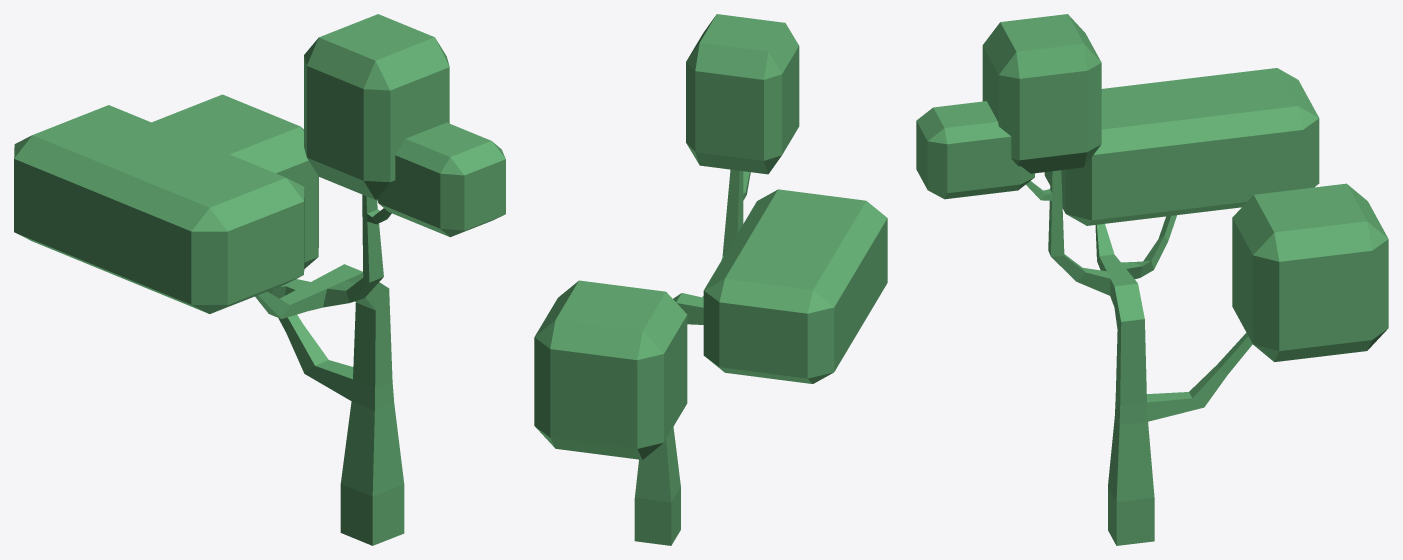
Rendered from test_tree.fbx.
3 views of the same model, side by side, from view 1: azimuth 30°, elevation 25°; view 2: azimuth 150°, elevation 25°; view 3: azimuth 270°, elevation 25° (orthographic). The views are drawn at different scales.
Parts seen in each view (by area): view 1: tree4; view 2: tree4; view 3: tree4.
Part boxes in pixels (x1=…): tree4: x1=14, y1=14, x2=505, y2=545; tree4: x1=534, y1=14, x2=887, y2=545; tree4: x1=916, y1=14, x2=1388, y2=545.
Bounding box in the file's own units: 52.32 × 88.01 × 77.98.
